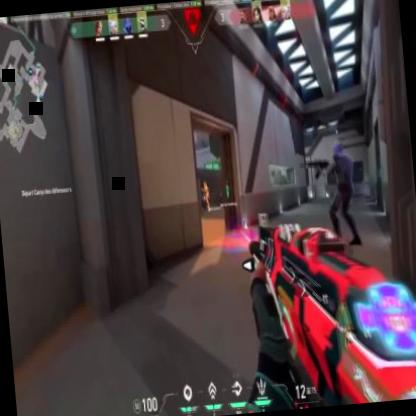enemy: (200, 179, 211, 211)
enemy_head: (203, 180, 208, 188)
